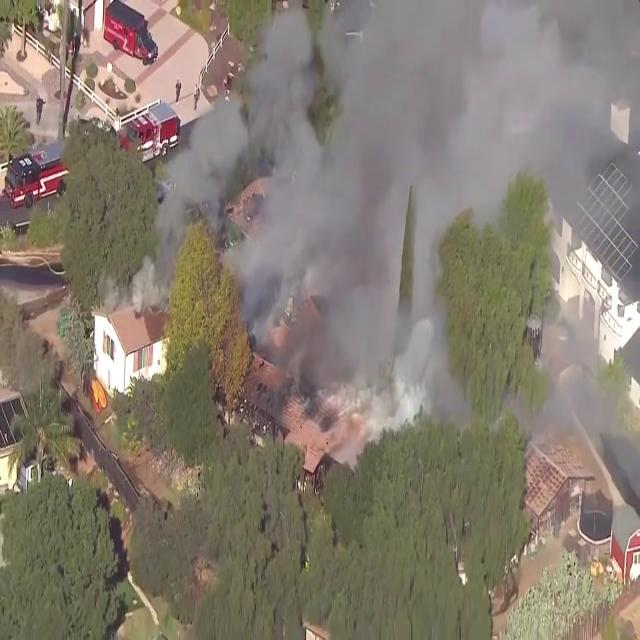Smoke: (153, 1, 487, 425)
